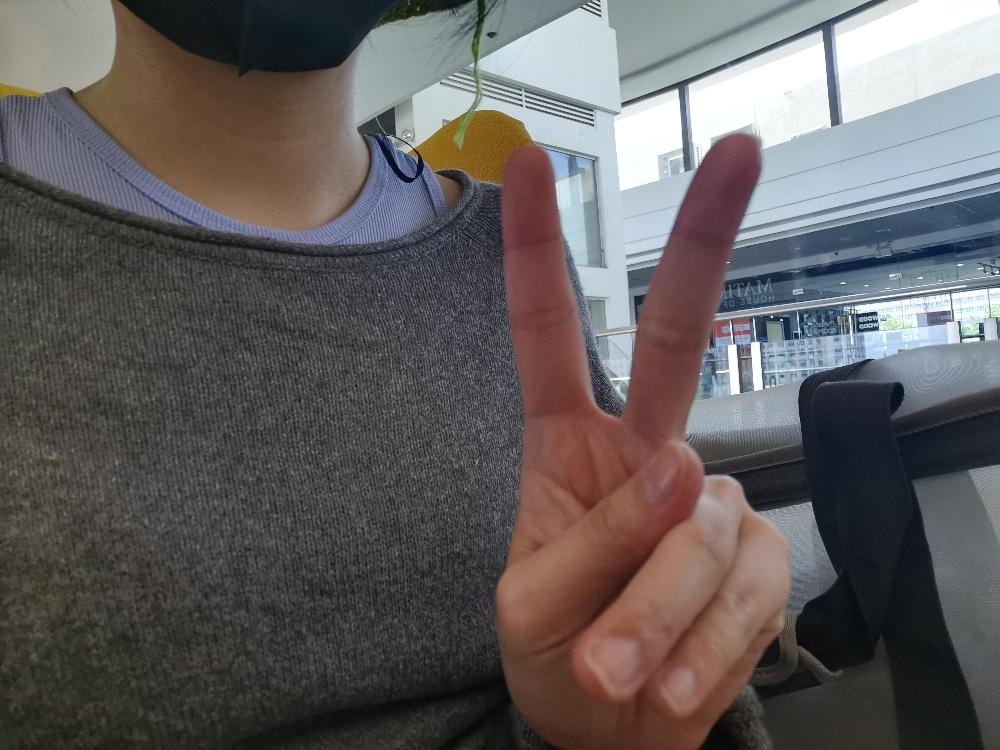v: (490, 128, 793, 749)
